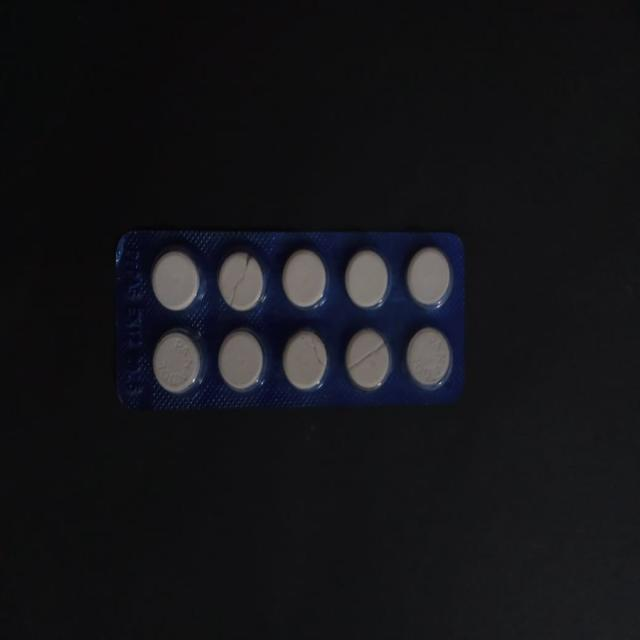defect: (216, 245, 266, 315), (281, 326, 331, 393), (344, 325, 392, 393)
